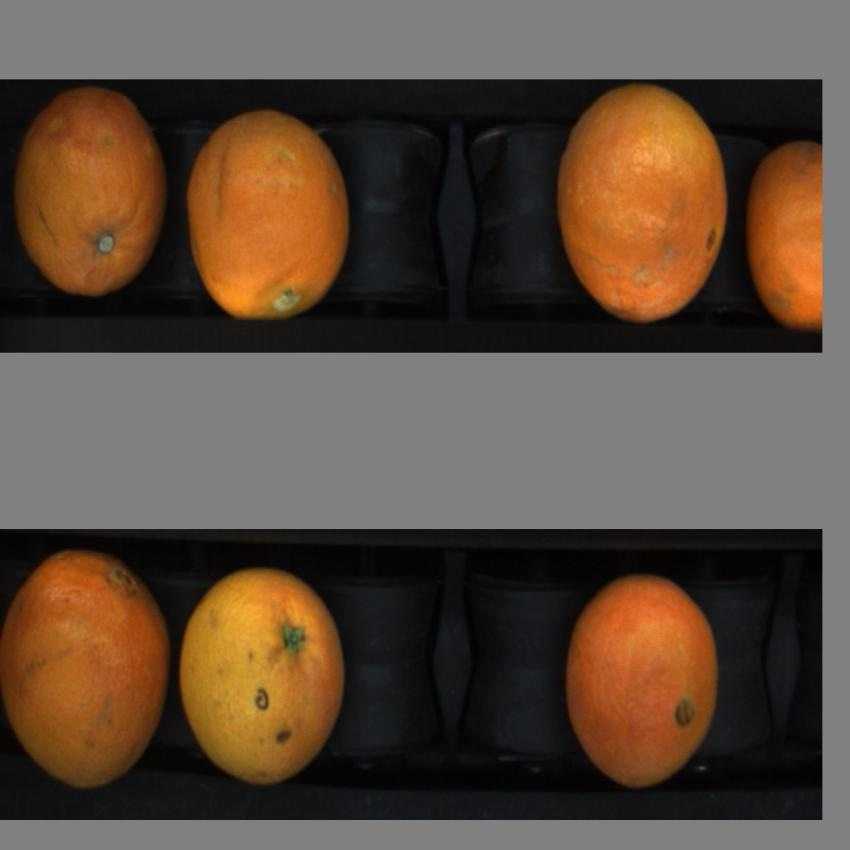Buen estado: (2, 543, 171, 800), (183, 97, 359, 338), (175, 561, 352, 796), (560, 565, 724, 795), (12, 83, 169, 306), (744, 134, 824, 342)
Mal estado: (556, 77, 735, 345)
